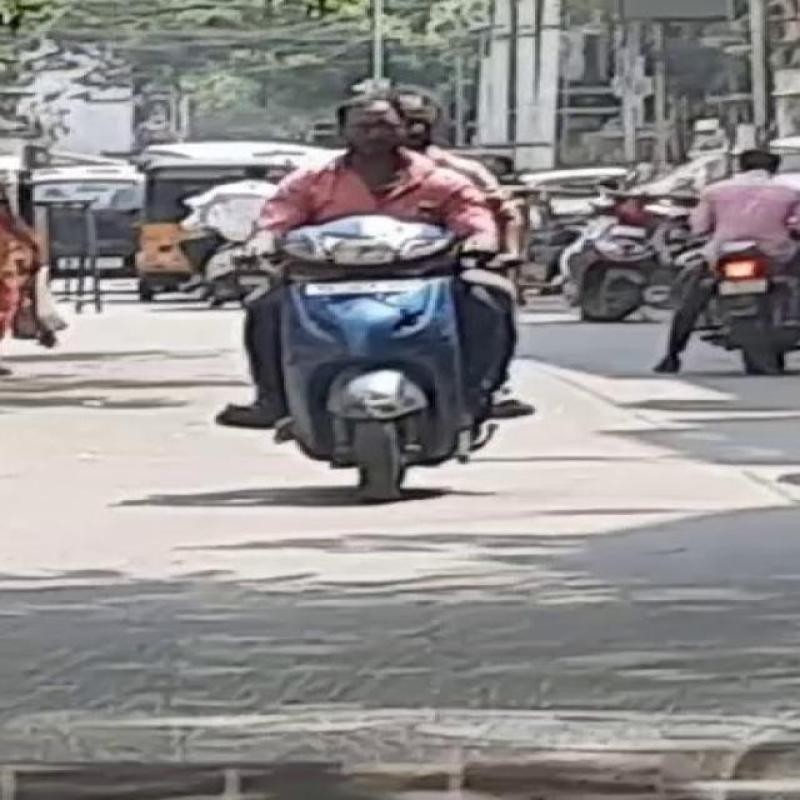nohelmet: (326, 93, 424, 153)
